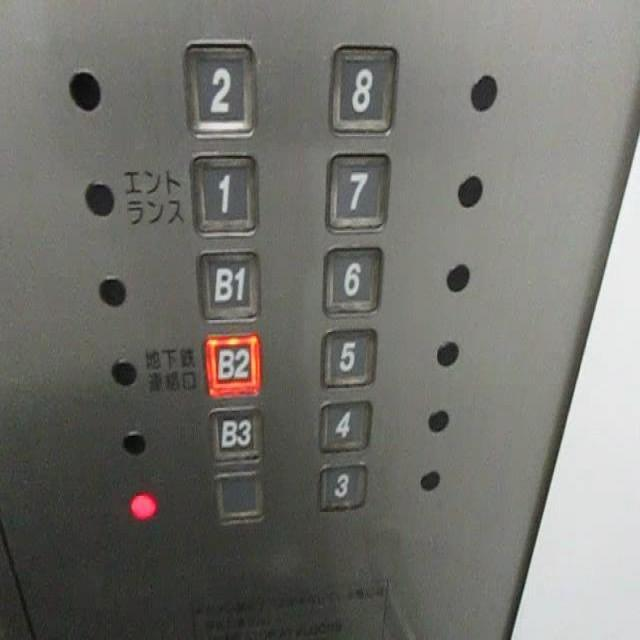1: (190, 149, 259, 236)
2: (184, 37, 258, 139)
3: (316, 459, 369, 516)
4: (316, 395, 373, 452)
5: (318, 322, 377, 390)
6: (321, 244, 384, 315)
7: (325, 149, 389, 231)
8: (328, 43, 398, 136)
B1: (196, 249, 263, 324)
B2: (201, 331, 263, 398)
B3: (207, 405, 266, 464)
empty: (212, 467, 265, 522)
